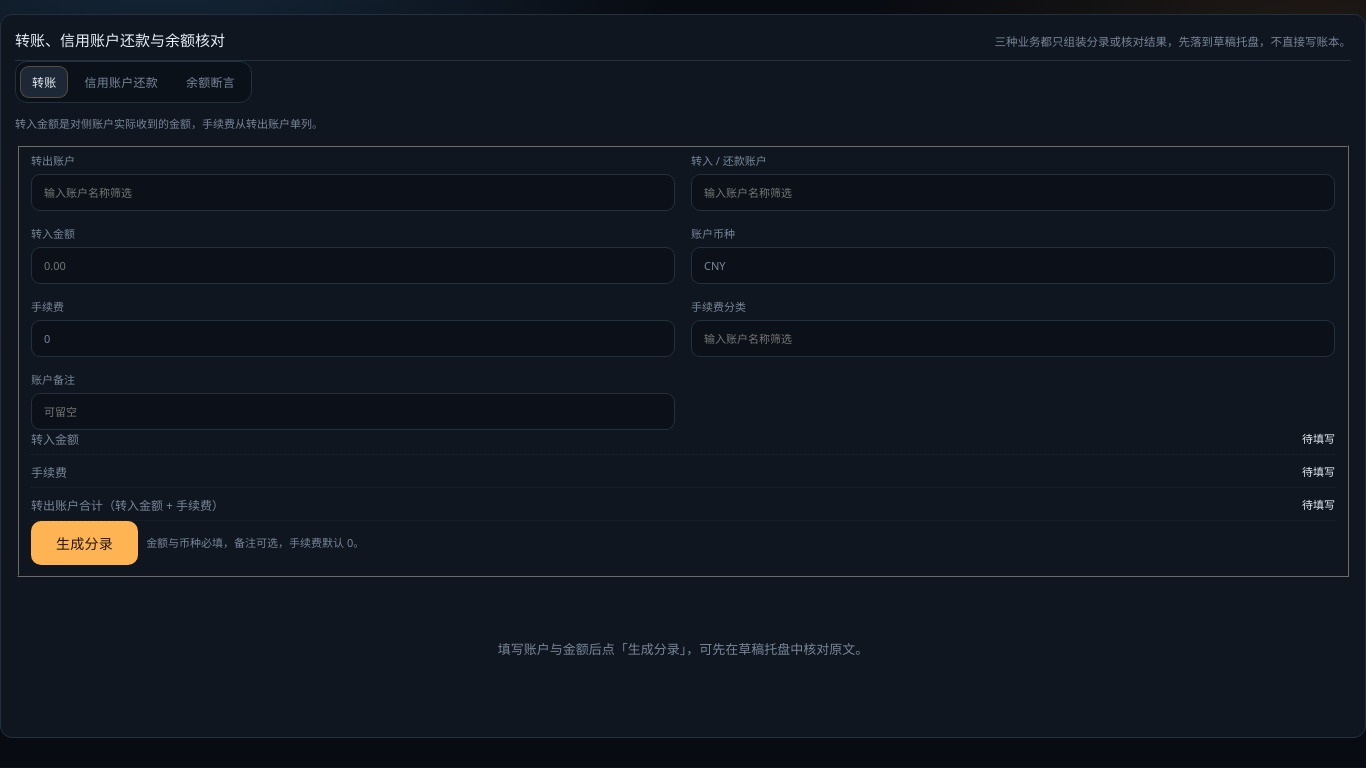
Test: 日期变化后隐藏上一个日期的结果
Click the button "余额断言" at (210, 82), box left=174, top=66, right=247, bottom=98
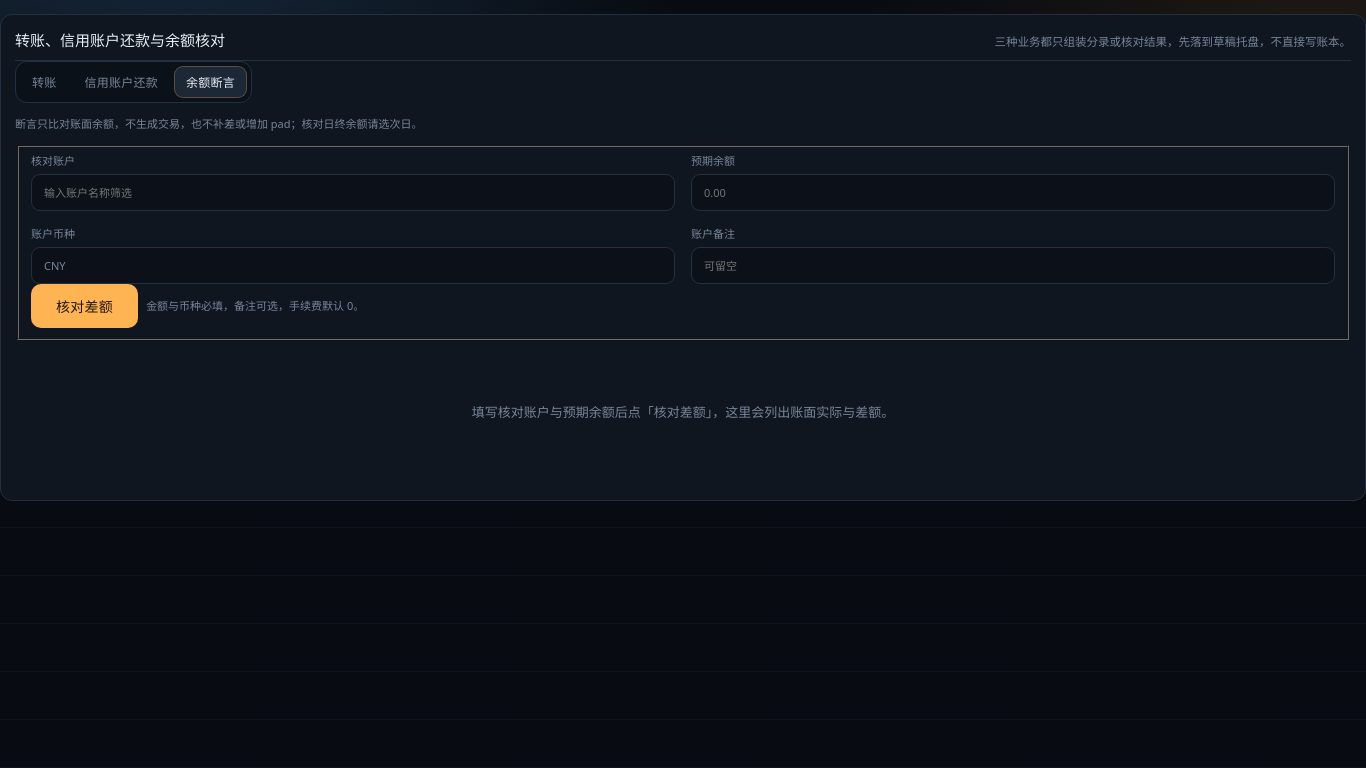
Type "Assets:Bank" into the dropdown labelled "核对账户" at (353, 193), box left=31, top=174, right=675, bottom=211
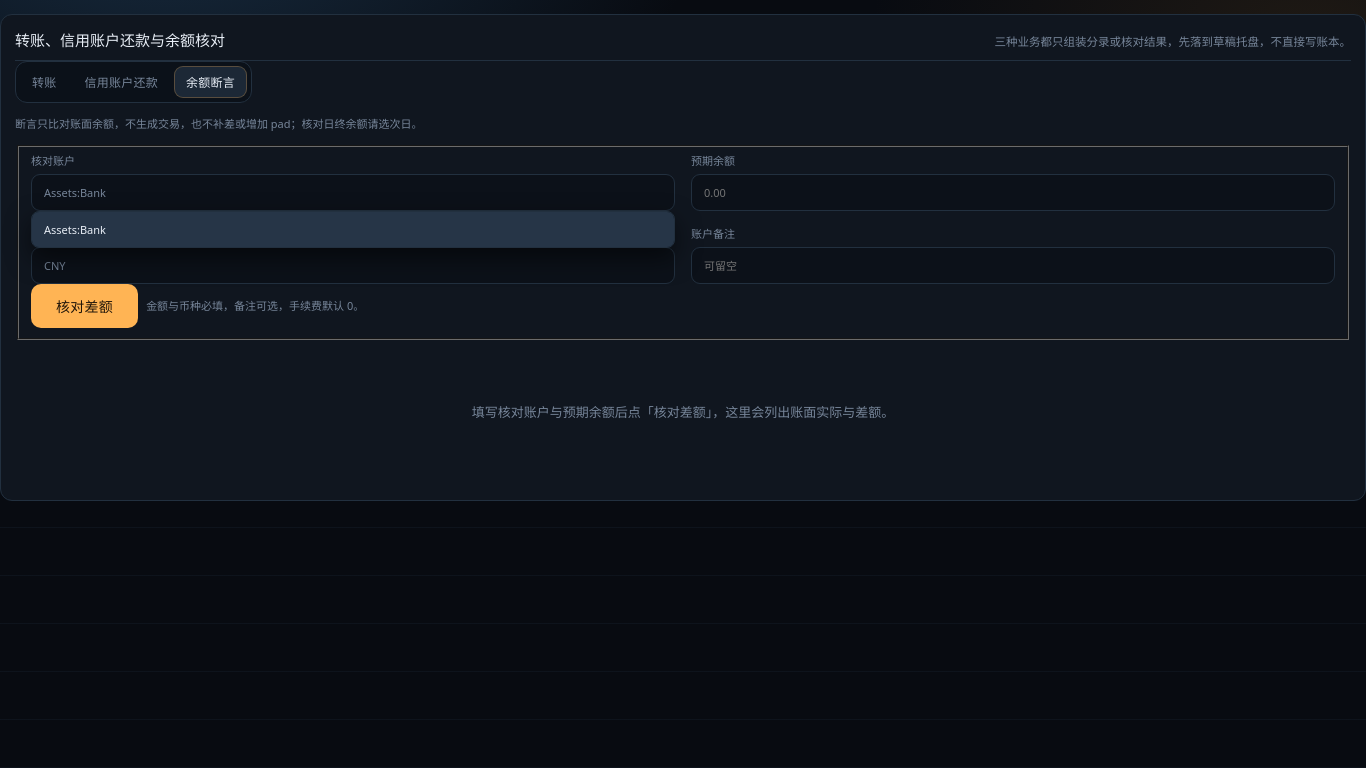
Type "100" into the field labelled "预期余额" at (1013, 193), box left=691, top=174, right=1335, bottom=211
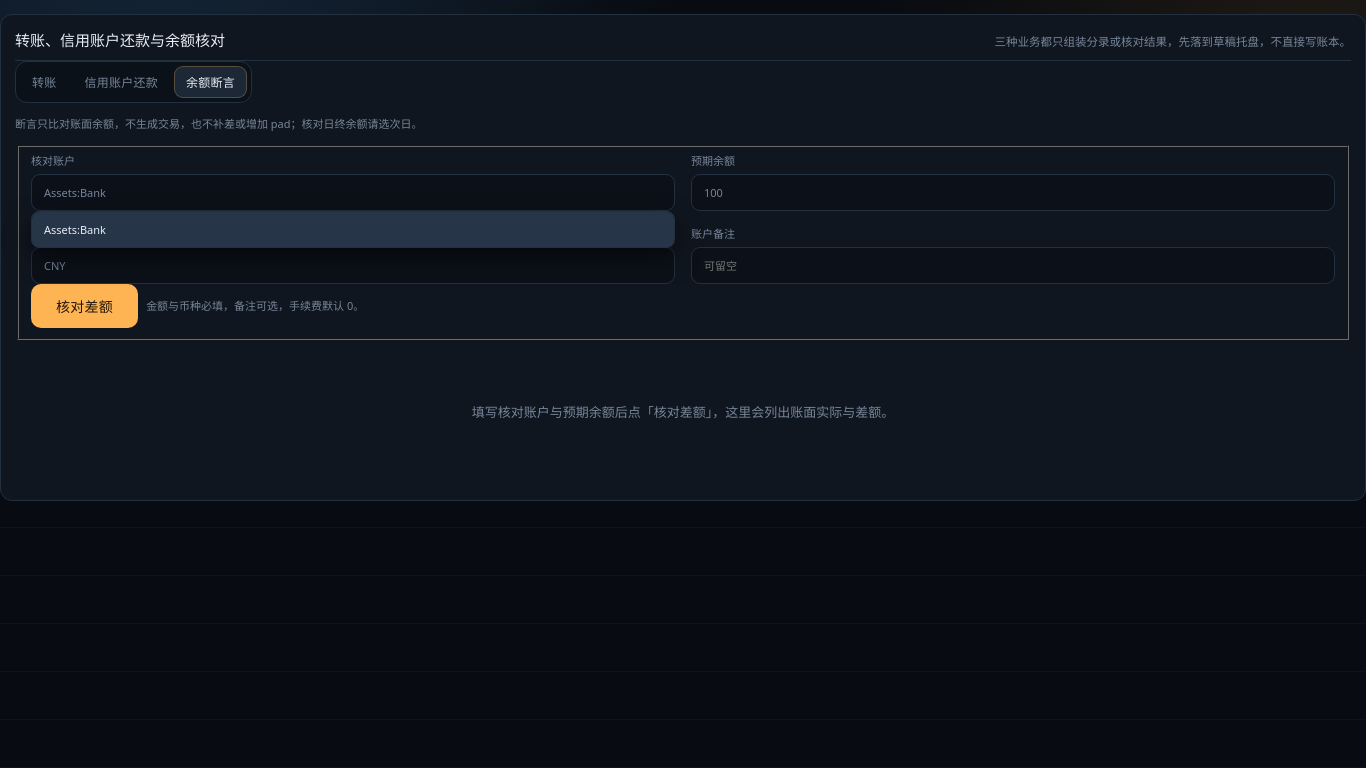
Click the button "核对差额" at (85, 306), box left=31, top=284, right=138, bottom=328
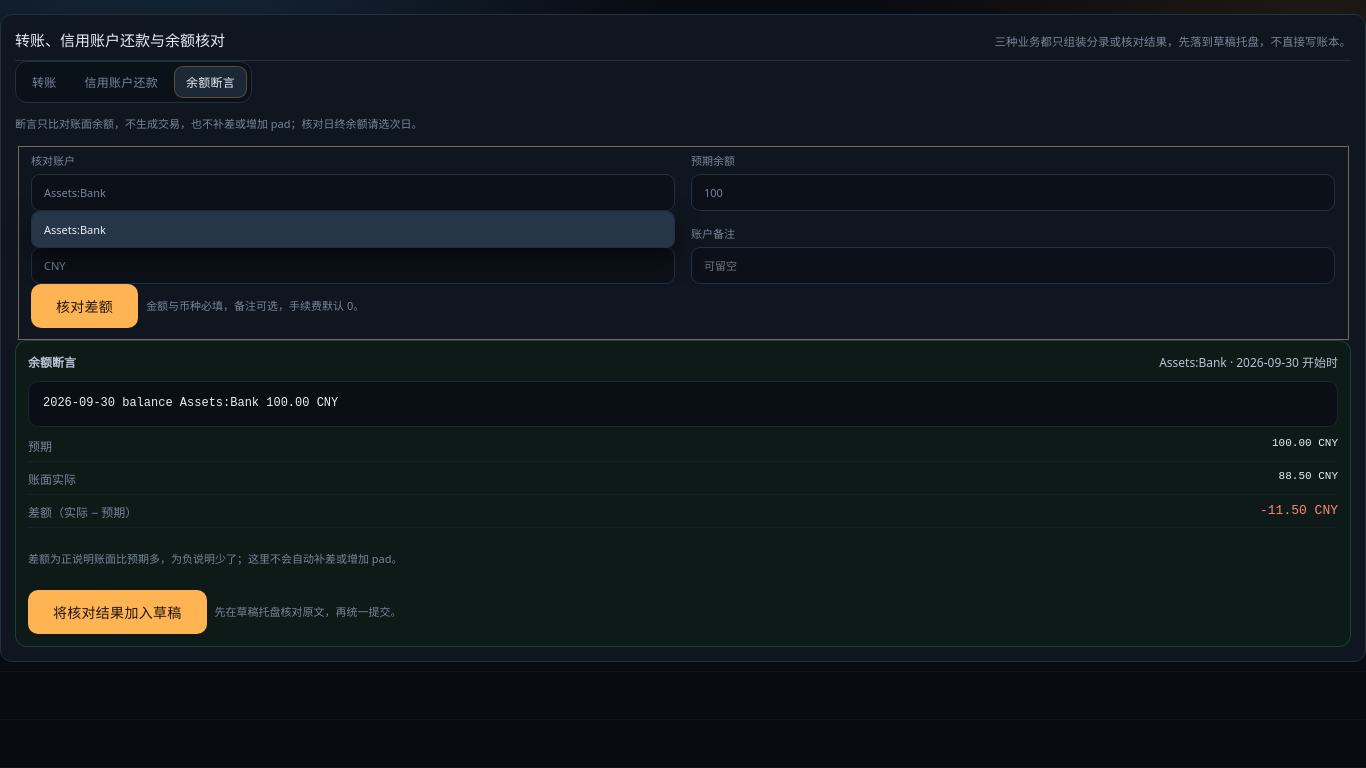
Now the text "-11.50 CNY" is shown, box left=1260, top=503, right=1338, bottom=518
